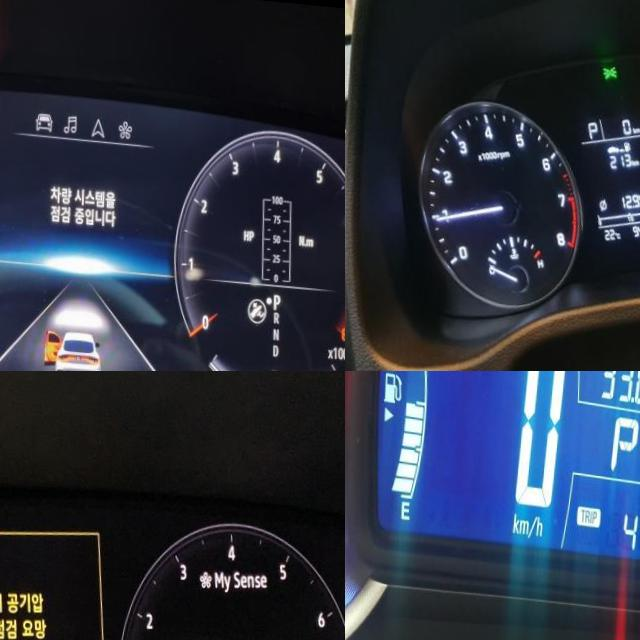SideLamp: (601, 55, 620, 74)
